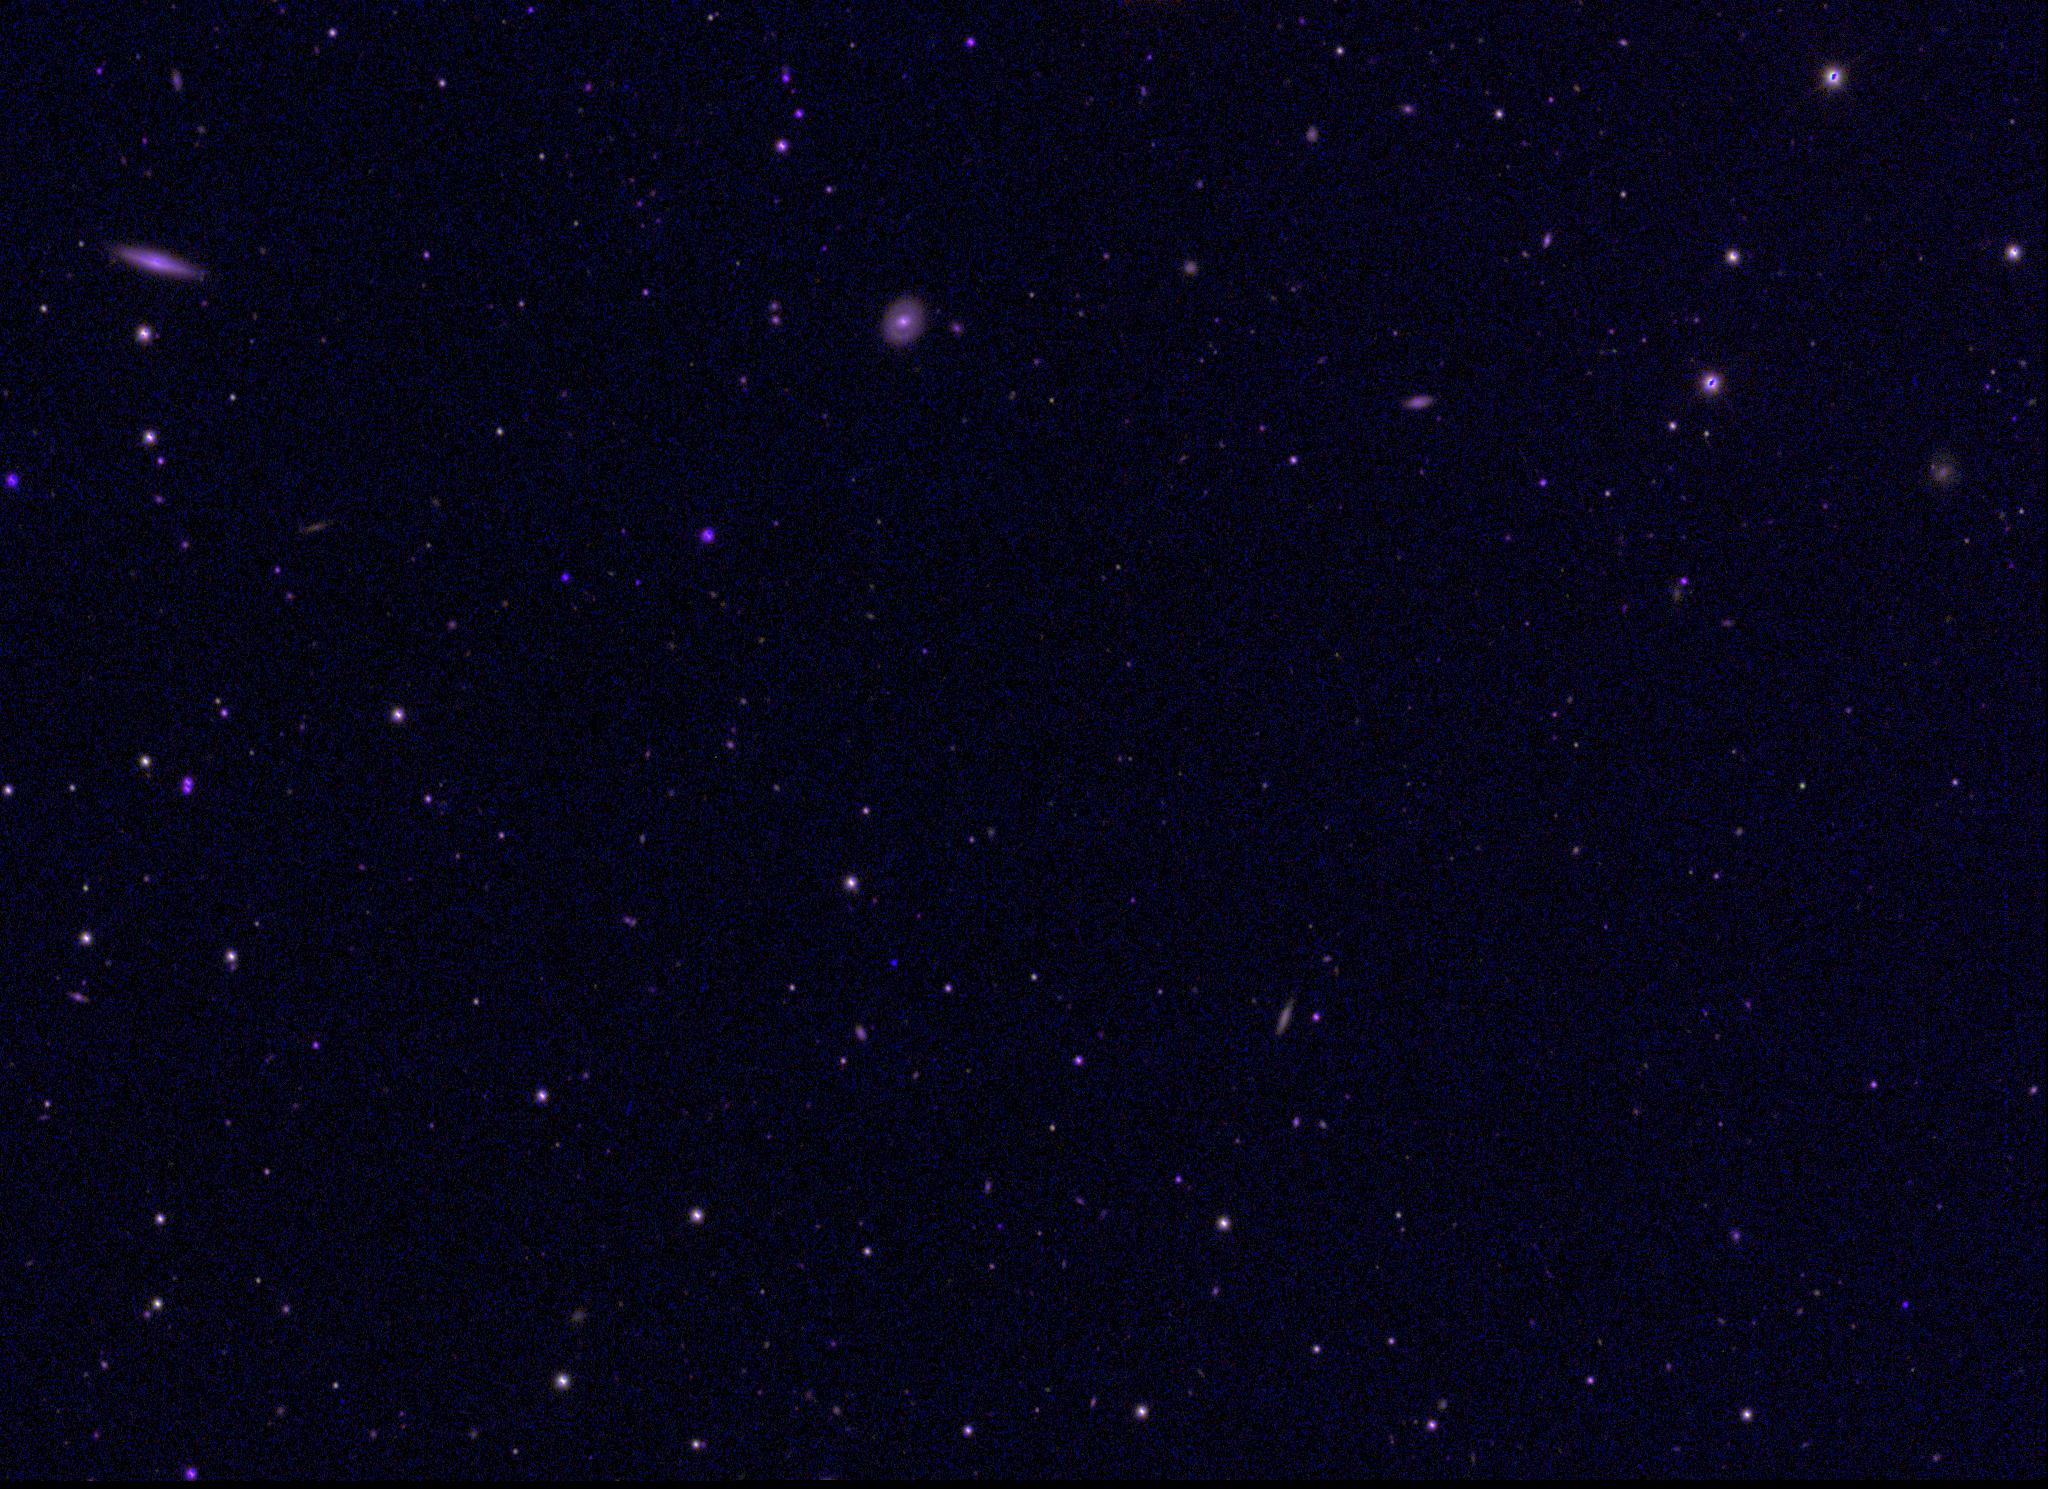L: (887, 954, 902, 969)
